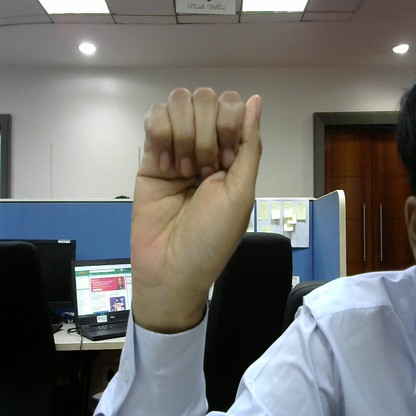a: (127, 76, 276, 305)
